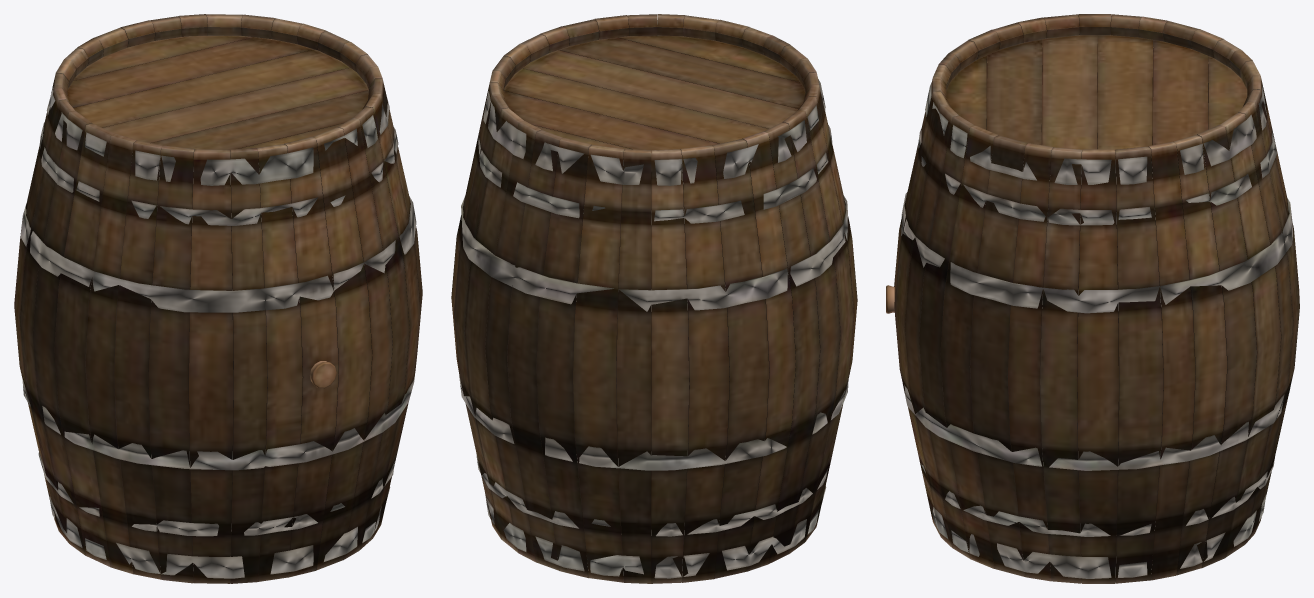
The model's file is barrel.glb.
3 renders of one model, left to right at view 1: azimuth 30°, elevation 25°; view 2: azimuth 150°, elevation 25°; view 3: azimuth 270°, elevation 25°, orthographic.
Parts seen in each view (by area): view 1: wine_barrel_01, wine_barrel_01_Lid, wine_barrel_01_bung; view 2: wine_barrel_01, wine_barrel_01_Lid; view 3: wine_barrel_01, wine_barrel_01_Lid.
Part boxes in pixels (left/top/right/bottom): wine_barrel_01: left=14, top=14, right=422, bottom=583; wine_barrel_01_Lid: left=67, top=36, right=368, bottom=149; wine_barrel_01_bung: left=310, top=361, right=336, bottom=388; wine_barrel_01: left=451, top=14, right=857, bottom=583; wine_barrel_01_Lid: left=503, top=36, right=805, bottom=152; wine_barrel_01: left=894, top=14, right=1299, bottom=583; wine_barrel_01_Lid: left=946, top=35, right=1247, bottom=149.
Size of the model in its own units: 0.7419 by 0.8695 by 0.7561.
Materials: 1 (1 with a texture image).
